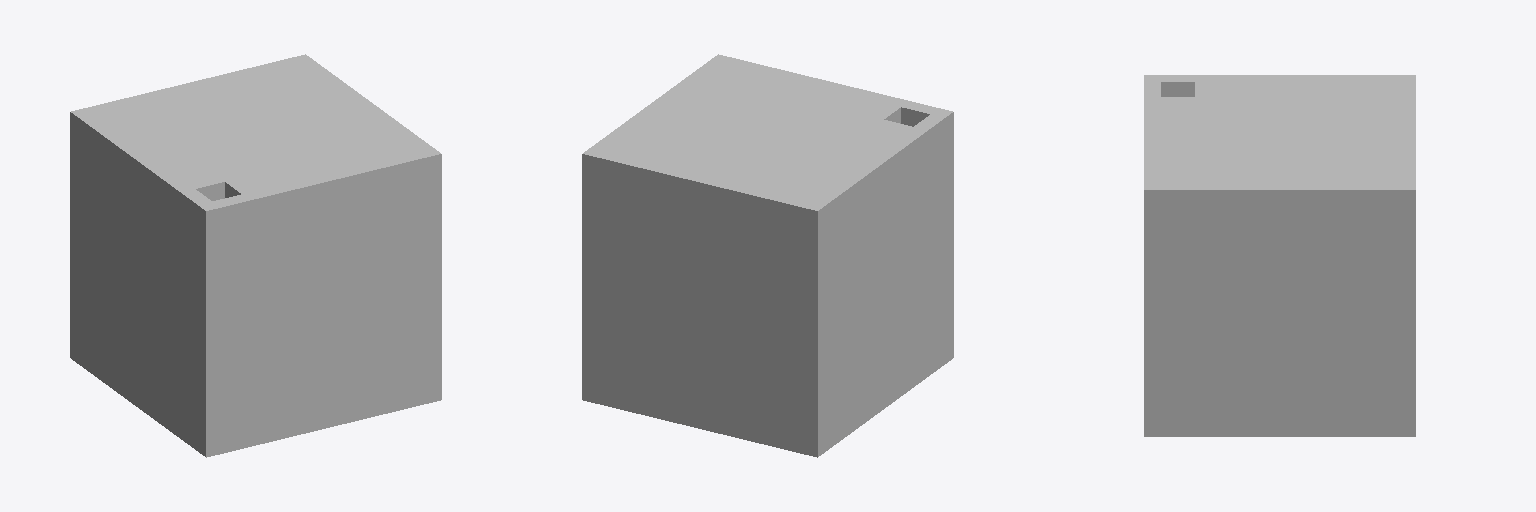
Rendered from matrix2.obj.
The picture shows the model from 3 angles: view 1: azimuth 30°, elevation 25°; view 2: azimuth 150°, elevation 25°; view 3: azimuth 270°, elevation 25°; orthographic projection.
Parts seen in each view (by area): view 1: Cube; view 2: Cube; view 3: Cube.
Part boxes in pixels (x1,y1,x2,y2): Cube: (70,54,441,457); Cube: (582,54,953,457); Cube: (1144,75,1415,436).
Size of the model in its own units: 1 by 1 by 1.